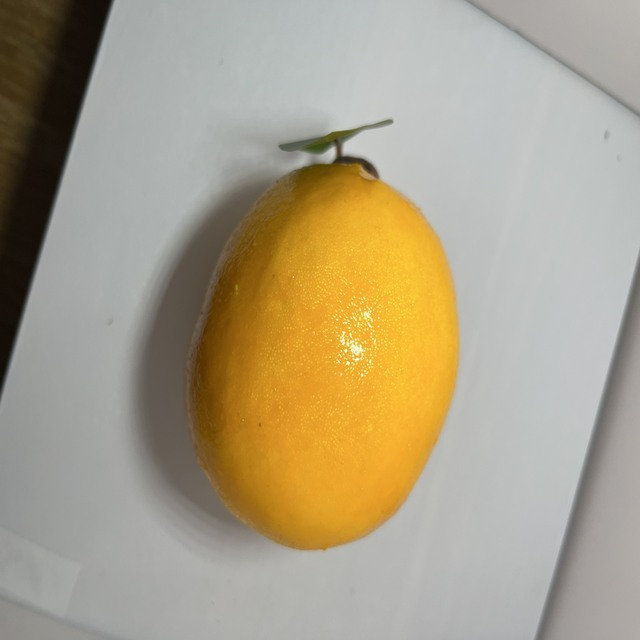Cam vang: (187, 154, 465, 554)
